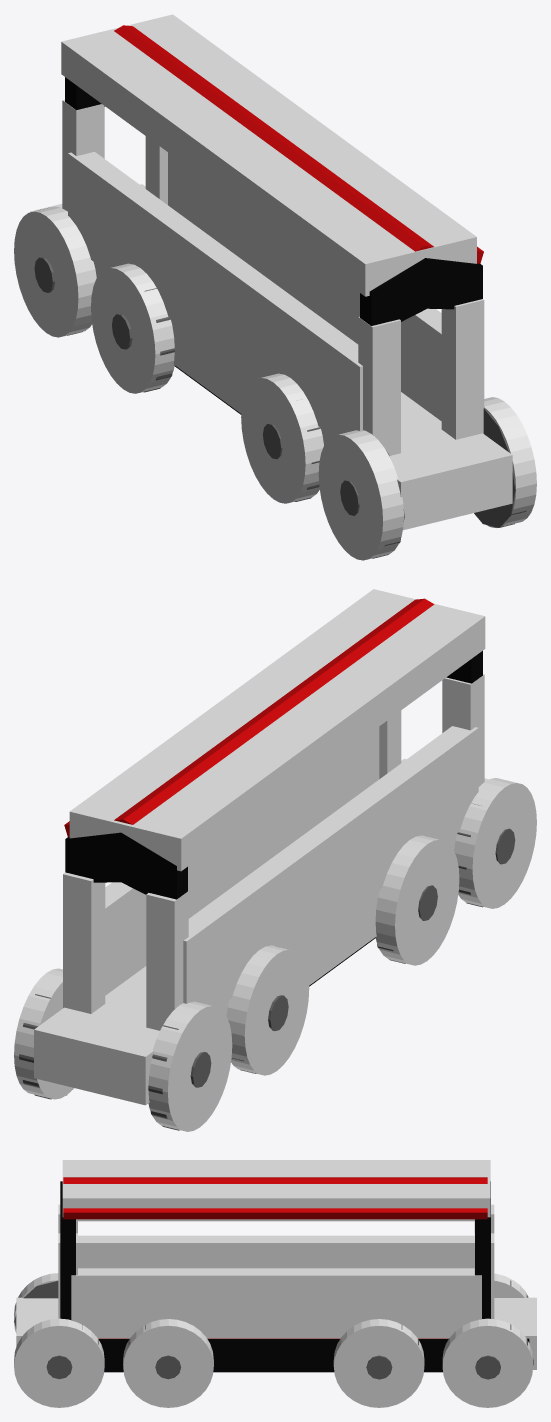
Rendered from basecar.glb.
The picture shows the model from 3 angles, top to bottom: view 1: azimuth 30°, elevation 25°; view 2: azimuth 150°, elevation 25°; view 3: azimuth 270°, elevation 25°; orthographic projection. The views are drawn at different scales.
Parts seen in each view (by area): view 1: BaseCarRoof-rectcol, BaseCarSideLeft-rectcol, BaseCarSideRight-rectcol, BaseCarBase-rectcol, BaseCarWheelR1-cylcol, BaseCarWheelR3-cylcol, BaseCarWheelR4-cylcol, BaseCarWheelR2-cylcol, BaseCarTop-animcol, BaseCarBackR-rectcol, BaseCarFront, BaseCarBackL-rectcol (+6 smaller); view 2: BaseCarRoof-rectcol, BaseCarSideLeft-rectcol, BaseCarSideRight-rectcol, BaseCarBase-rectcol, BaseCarWheelR2-cylcol, BaseCarWheelR4-cylcol, BaseCarWheelR1-cylcol, BaseCarWheelR3-cylcol, BaseCarTop-animcol, BaseCarFrontR-rectcol, BaseCarBack, BaseCarFrontL-rectcol (+5 smaller); view 3: BaseCarSideRight-rectcol, BaseCarRoof-rectcol, BaseCarSideLeft-rectcol, BaseCarTop-animcol, BaseCarWheelL1-cylcol, BaseCarWheelL4-cylcol, BaseCarWheelL3-cylcol, BaseCarWheelL2-cylcol, BaseCarBase, BaseCarBase-rectcol, BaseCarFront, BaseCarBack (+9 smaller).
Boxes of the visible parts, bbox=[...] form: BaseCarRoof-rectcol: bbox=[61, 14, 476, 296]; BaseCarSideLeft-rectcol: bbox=[68, 152, 362, 436]; BaseCarSideRight-rectcol: bbox=[168, 152, 441, 420]; BaseCarBase-rectcol: bbox=[30, 184, 512, 530]; BaseCarWheelR1-cylcol: bbox=[318, 430, 403, 560]; BaseCarWheelR3-cylcol: bbox=[91, 263, 174, 393]; BaseCarWheelR4-cylcol: bbox=[14, 206, 96, 337]; BaseCarWheelR2-cylcol: bbox=[241, 373, 323, 503]; BaseCarTop-animcol: bbox=[114, 25, 483, 263]; BaseCarBackR-rectcol: bbox=[441, 299, 484, 439]; BaseCarFront: bbox=[360, 258, 482, 325]; BaseCarBackL-rectcol: bbox=[358, 316, 400, 455]; BaseCarRoof-rectcol: bbox=[69, 589, 485, 871]; BaseCarSideLeft-rectcol: bbox=[183, 726, 478, 1007]; BaseCarSideRight-rectcol: bbox=[105, 727, 379, 995]; BaseCarBase-rectcol: bbox=[34, 758, 488, 1105]; BaseCarWheelR2-cylcol: bbox=[375, 835, 459, 965]; BaseCarWheelR4-cylcol: bbox=[148, 1001, 232, 1131]; BaseCarWheelR1-cylcol: bbox=[454, 778, 536, 908]; BaseCarWheelR3-cylcol: bbox=[226, 945, 309, 1075]; BaseCarTop-animcol: bbox=[64, 598, 434, 836]; BaseCarFrontR-rectcol: bbox=[63, 872, 105, 1013]; BaseCarBack: bbox=[65, 832, 187, 899]; BaseCarFrontL-rectcol: bbox=[146, 891, 188, 1030]; BaseCarSideRight-rectcol: bbox=[71, 1268, 481, 1338]; BaseCarRoof-rectcol: bbox=[62, 1160, 490, 1221]; BaseCarSideLeft-rectcol: bbox=[78, 1235, 474, 1268]; BaseCarTop-animcol: bbox=[63, 1177, 487, 1219]; BaseCarWheelL1-cylcol: bbox=[14, 1318, 104, 1407]; BaseCarWheelL4-cylcol: bbox=[442, 1318, 533, 1407]; BaseCarWheelL3-cylcol: bbox=[333, 1319, 424, 1407]; BaseCarWheelL2-cylcol: bbox=[123, 1319, 213, 1407]; BaseCarBase: bbox=[98, 1338, 529, 1372]; BaseCarBase-rectcol: bbox=[16, 1297, 536, 1369]; BaseCarFront: bbox=[60, 1181, 75, 1319]; BaseCarBack: bbox=[475, 1181, 490, 1318].
Bounding box in the file's own units: 2.84 × 4.95 × 11.54.
4 materials, 2 textured.
